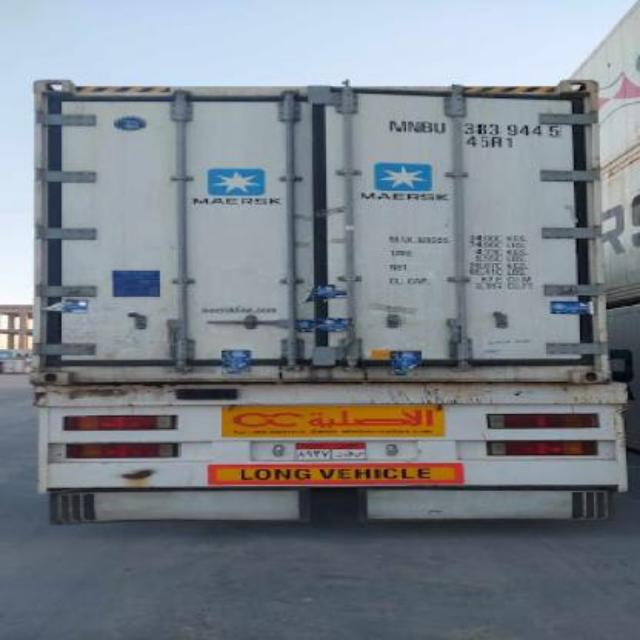3: (458, 118, 474, 136), (486, 119, 502, 137)
4: (528, 121, 544, 139), (518, 120, 530, 140)
5: (542, 121, 560, 139)
8: (474, 120, 488, 136)
9: (504, 121, 518, 137)
B: (418, 114, 432, 136)
M: (384, 116, 408, 134)
N: (404, 114, 422, 136)
U: (430, 115, 448, 138)
